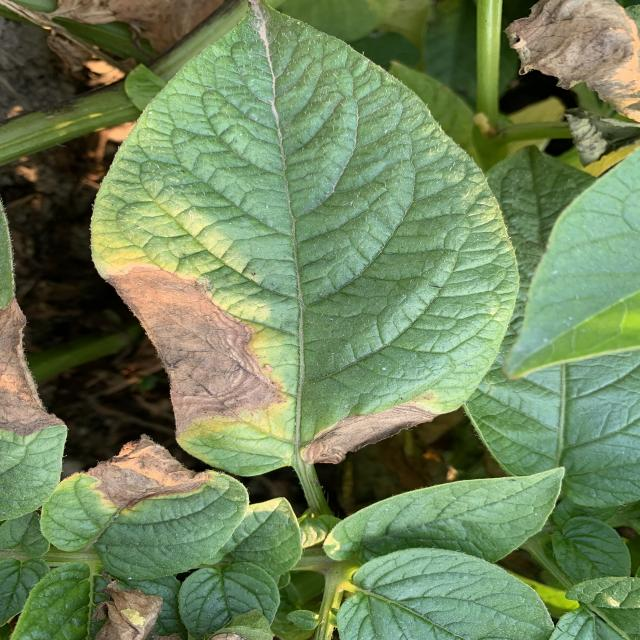lateblight: (107, 264, 278, 435), (87, 435, 210, 509), (0, 299, 65, 436), (302, 404, 437, 464), (93, 580, 163, 640)
